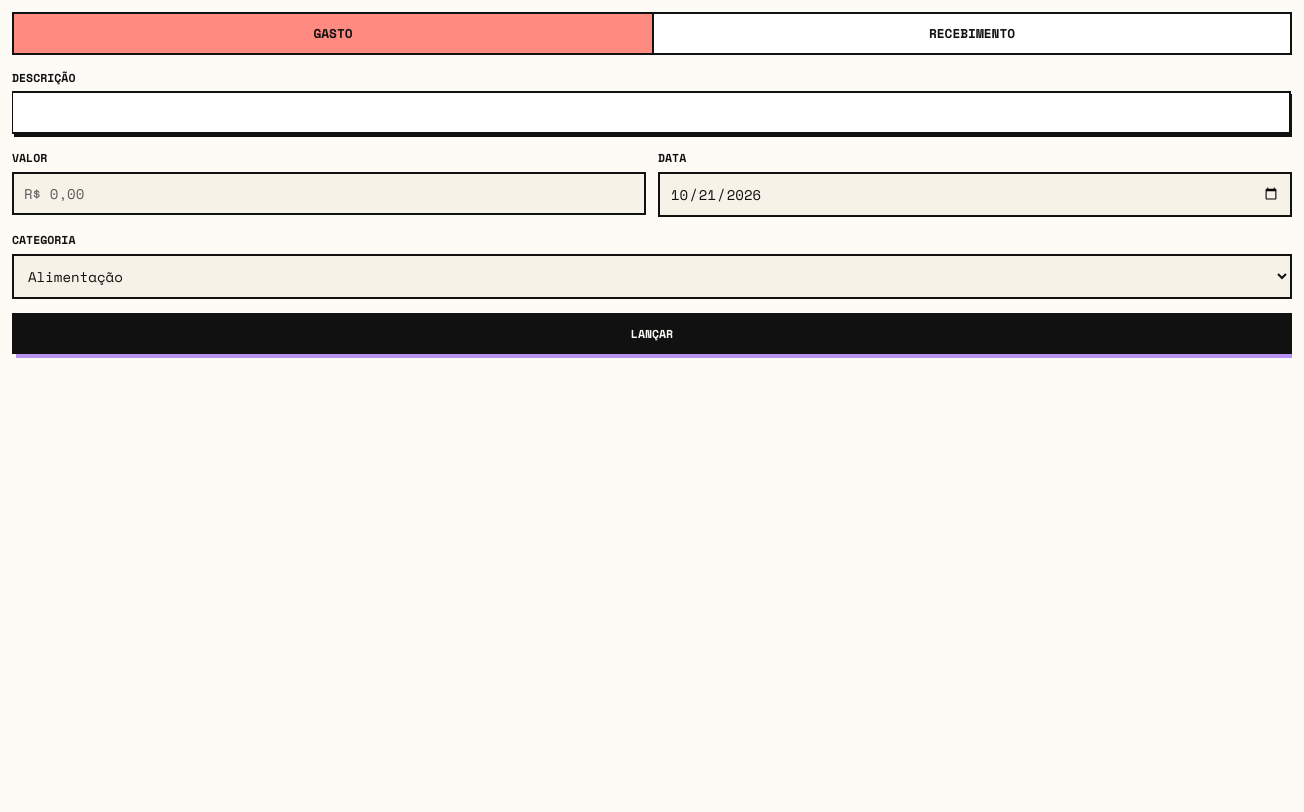
Test: TransactionForm › mostra toast de erro quando a API falha
Type "X" into the field labelled "Descrição" at (651, 112), box x1=11 y1=91 x2=1291 y2=134
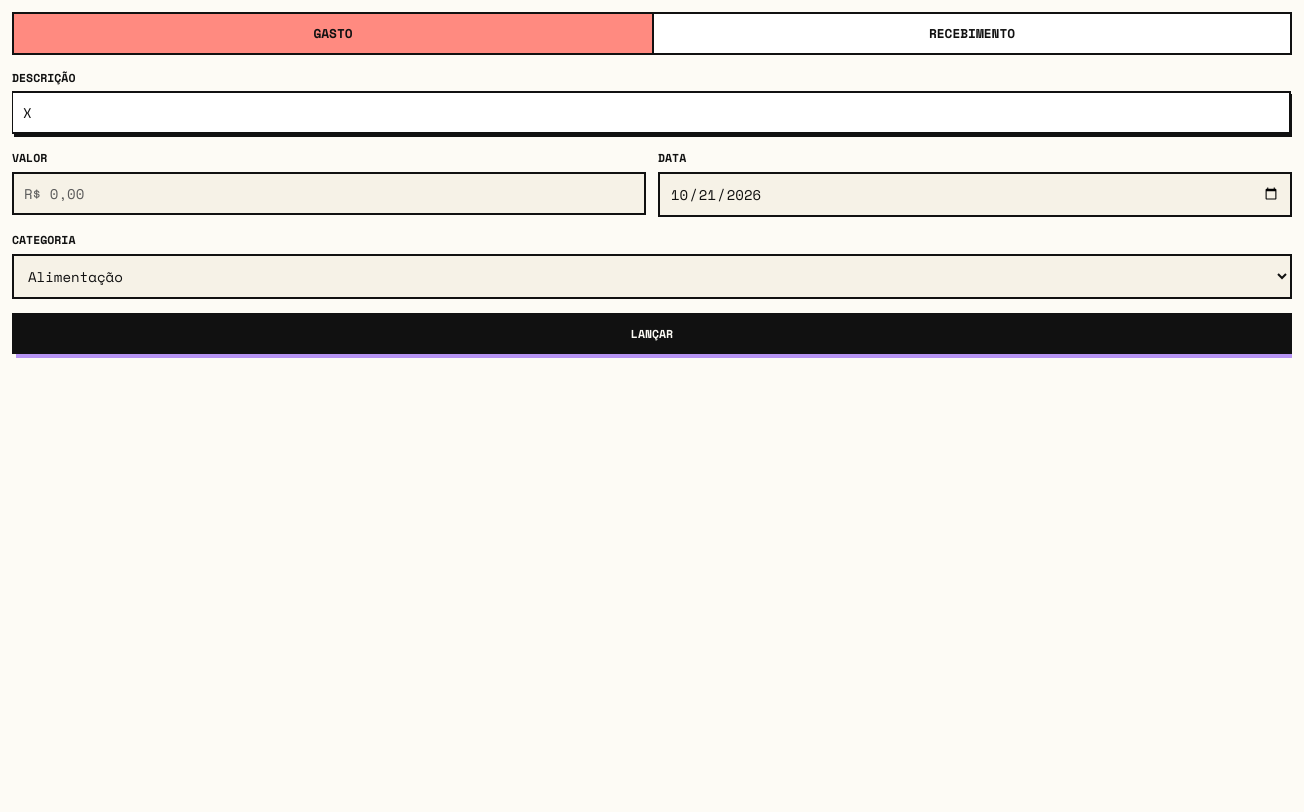
Type "1000" into the field labelled "Valor" at (329, 194), box x1=12 y1=172 x2=646 y2=215
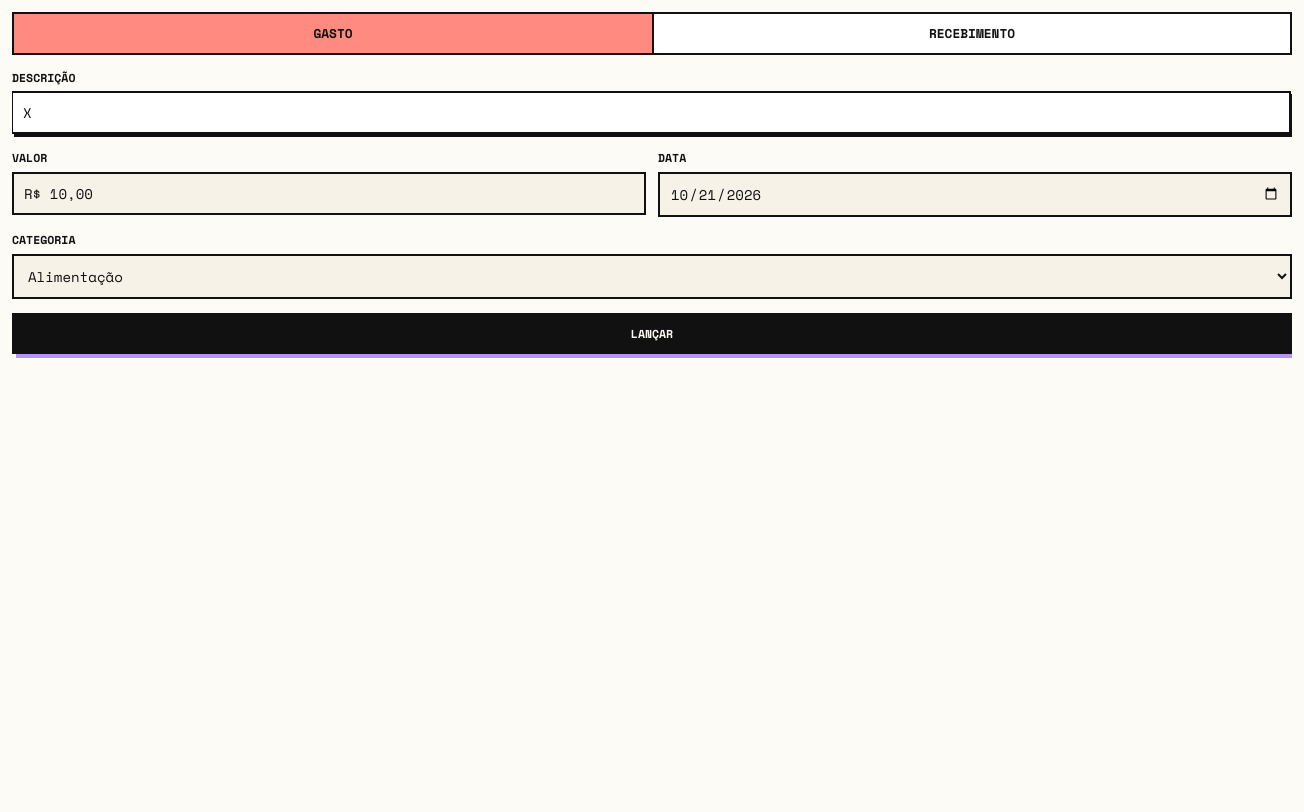
Click the button "Lançar" at (652, 334), box x1=12 y1=313 x2=1292 y2=354
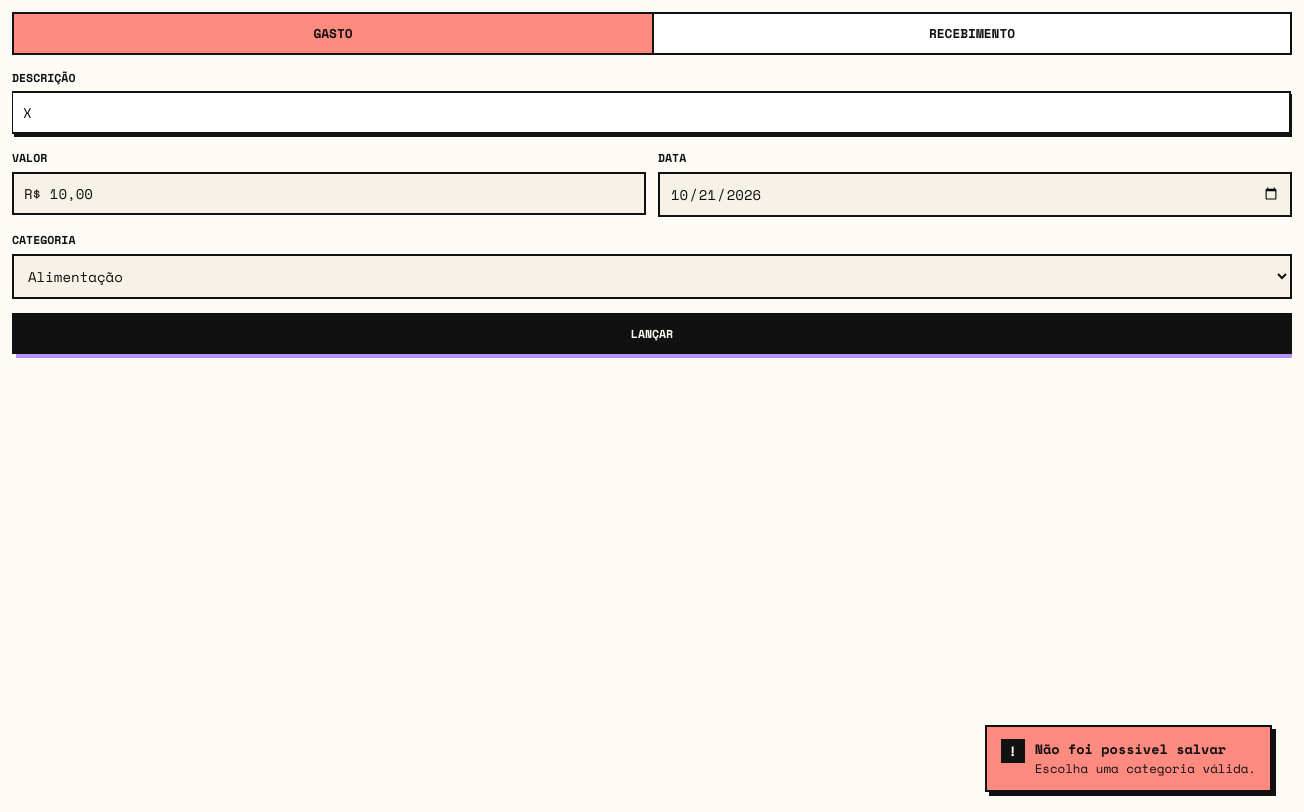
Now the text "Escolha uma categoria válida." is shown, box x1=1035 y1=761 x2=1256 y2=778
Now the text "Não foi possível salvar" is shown, box x1=1035 y1=739 x2=1256 y2=759
